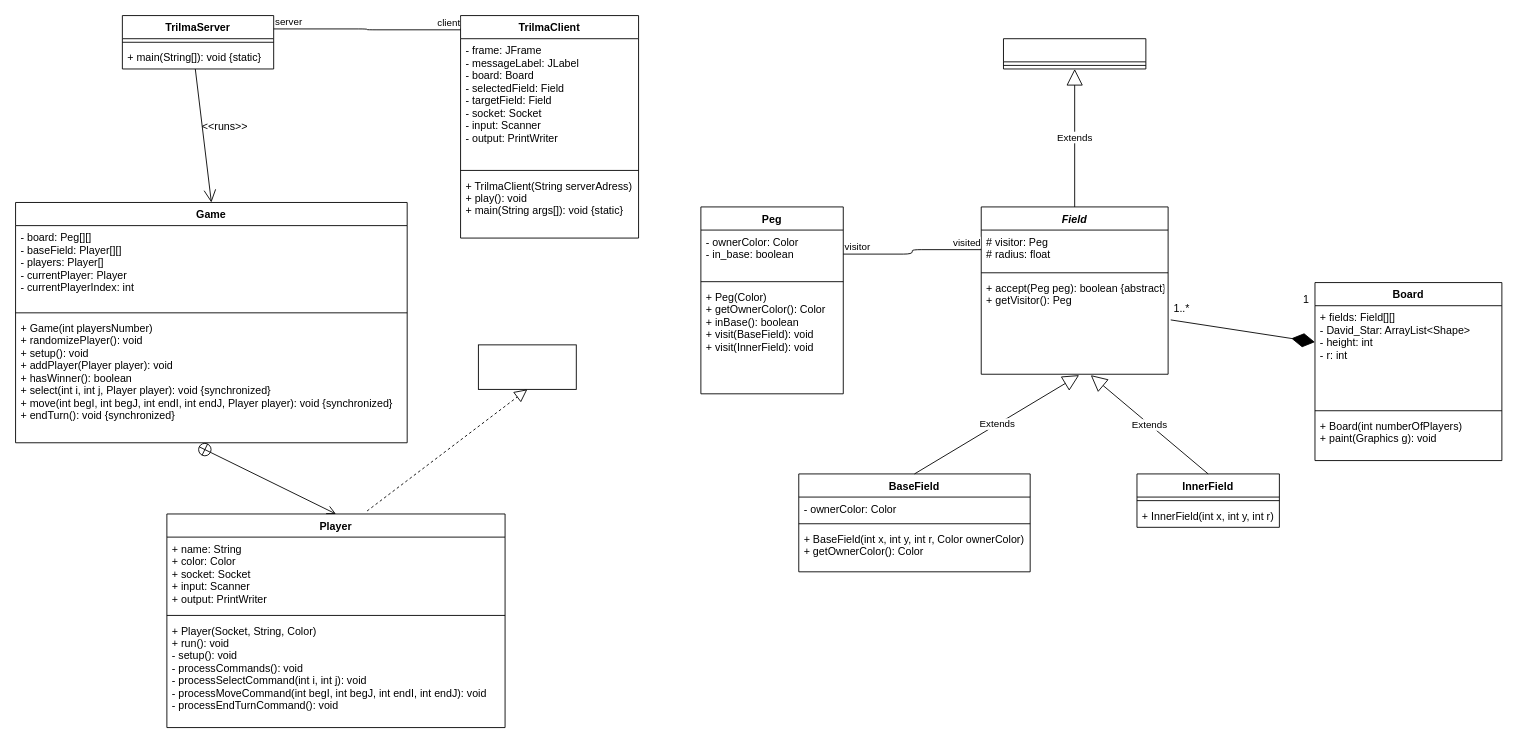
Image size: 1517x746. Some labels were removed from this diagram. Each missing label, with the centre of its shape:
Ellipse2D.Float: (1074,53)
«interface» Runnable: (526,366)
